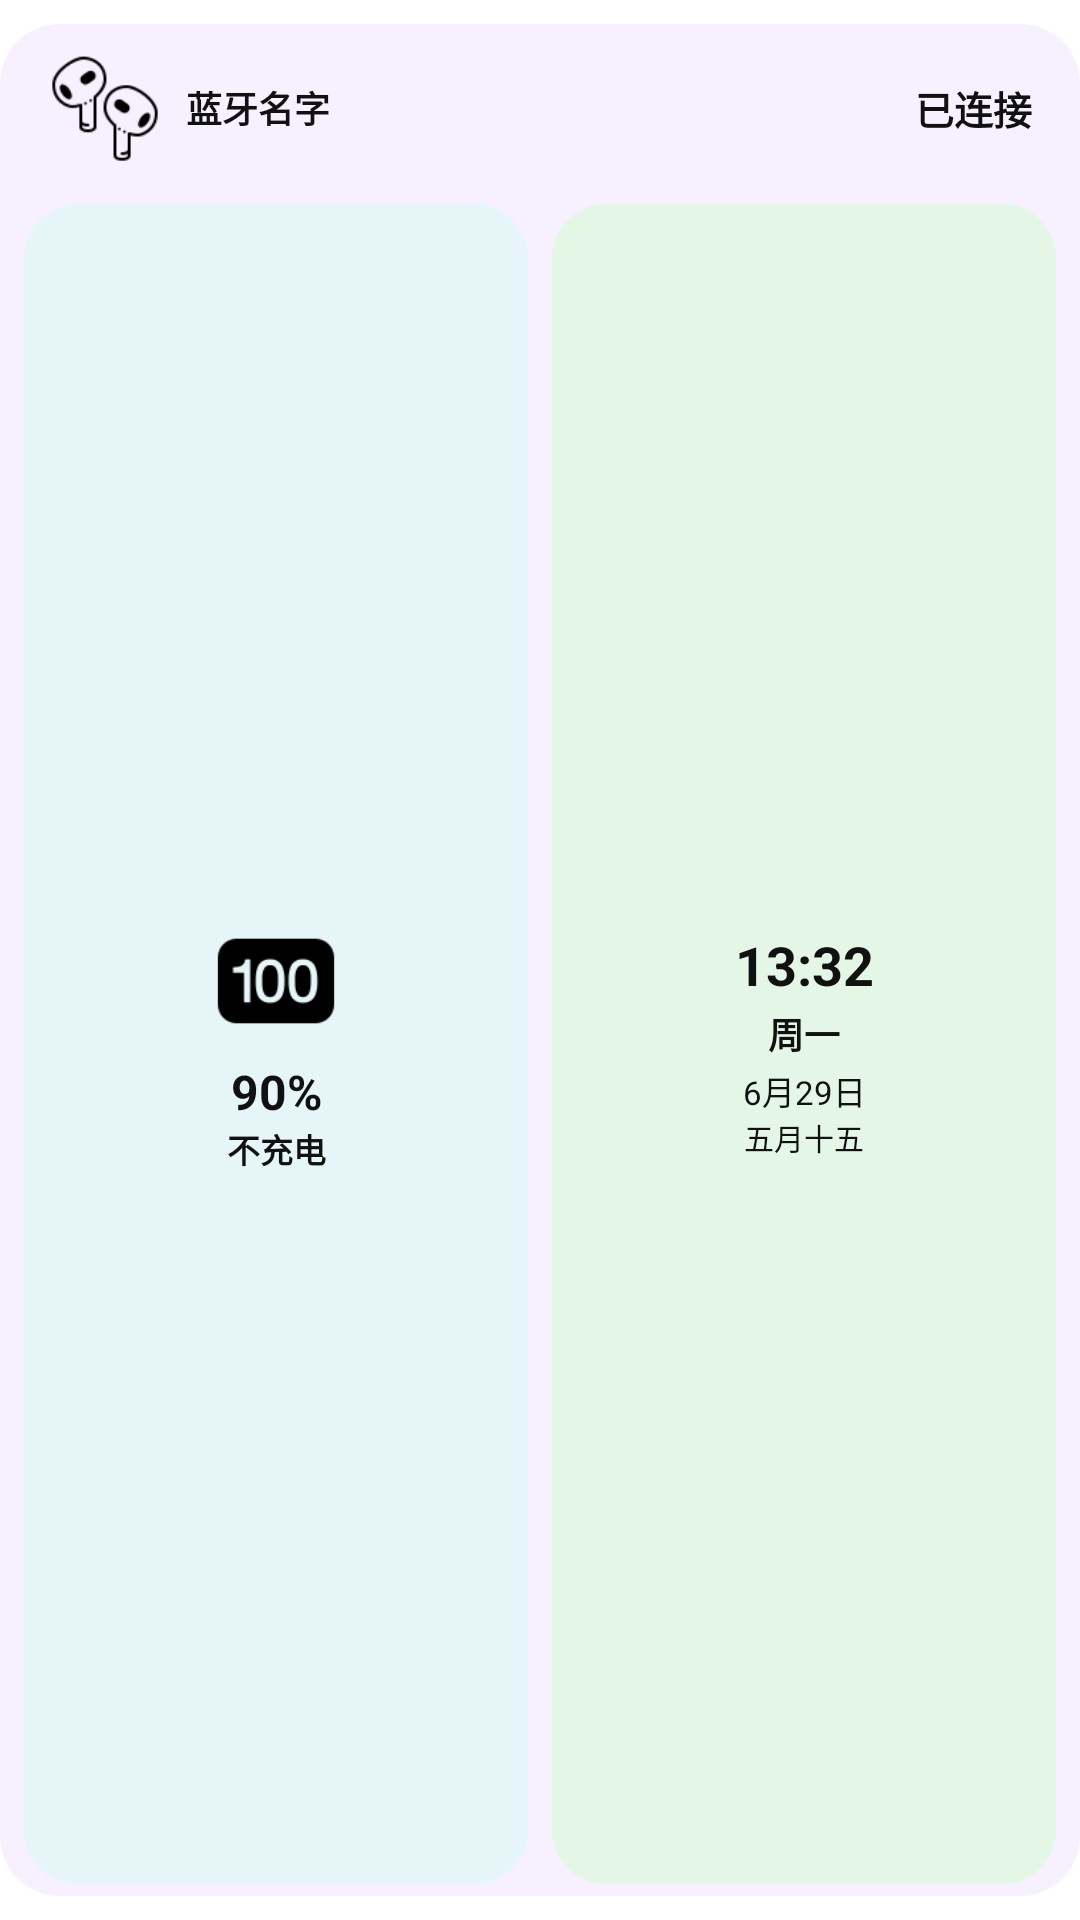

Where icons sit on this 1080*1920 app screen, as BBox(x1, y1, x2, y2):
battery: BBox(217, 938, 335, 1024)
headphones: BBox(52, 56, 158, 161)
